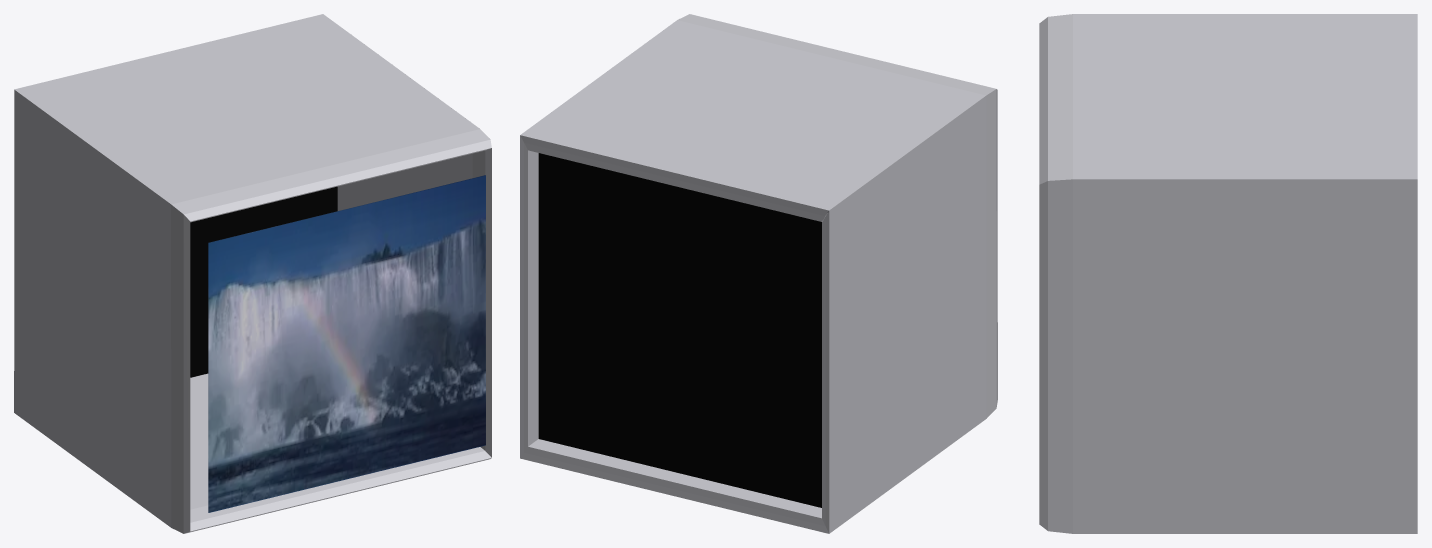
Rendered from sh-contrib-niagara-falls-frame.glb.
The picture shows the model from 3 angles, left to right: view 1: azimuth 30°, elevation 25°; view 2: azimuth 150°, elevation 25°; view 3: azimuth 270°, elevation 25°; orthographic projection. The views are drawn at different scales.
Visible parts, largest first — view 1: MetalFrame_Cylinder_Aluminium.009, Photo_Cube_Material_NiagaraFalls.jpg, Frame_Black_Material.010; view 2: MetalFrame_Cylinder_Aluminium.009, Frame_Black_Material.010; view 3: MetalFrame_Cylinder_Aluminium.009.
Part boxes in pixels (box(x1,y1,x2,y2)): MetalFrame_Cylinder_Aluminium.009: box(14, 14, 491, 533); Photo_Cube_Material_NiagaraFalls.jpg: box(208, 175, 485, 512); Frame_Black_Material.010: box(190, 186, 337, 377); MetalFrame_Cylinder_Aluminium.009: box(520, 14, 997, 533); Frame_Black_Material.010: box(538, 153, 828, 507); MetalFrame_Cylinder_Aluminium.009: box(1039, 14, 1417, 533).
Bounding box in the file's own units: 1 × 1 × 1.
3 materials, 1 textured.
